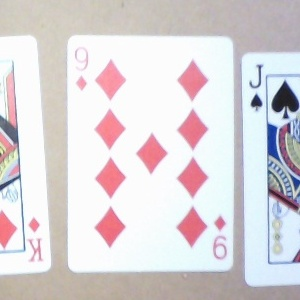card: (64, 29, 235, 271)
